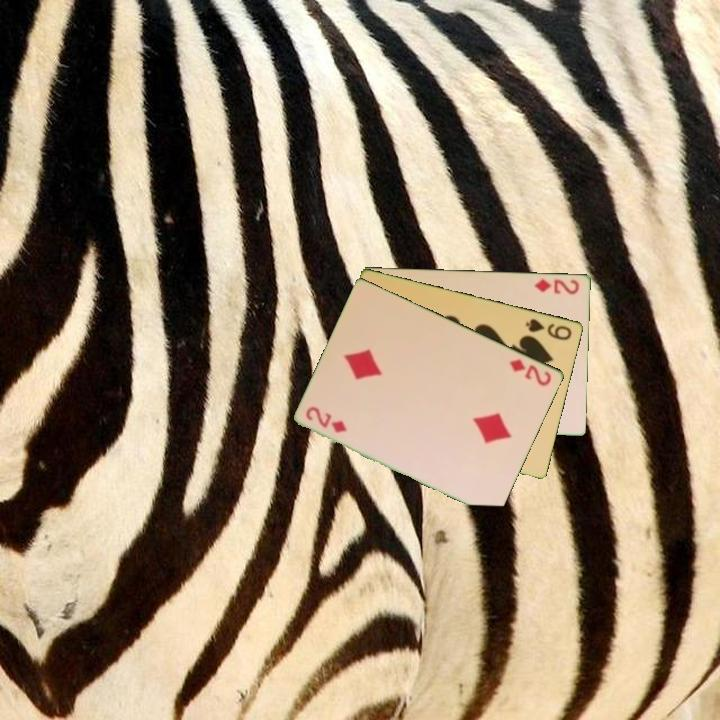2d: (506, 355, 555, 389), (303, 403, 350, 436), (531, 275, 582, 297)
9s: (522, 315, 575, 343)
